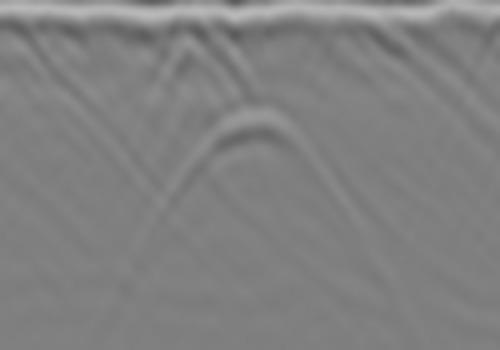hyperbola: (153, 101, 343, 245)
